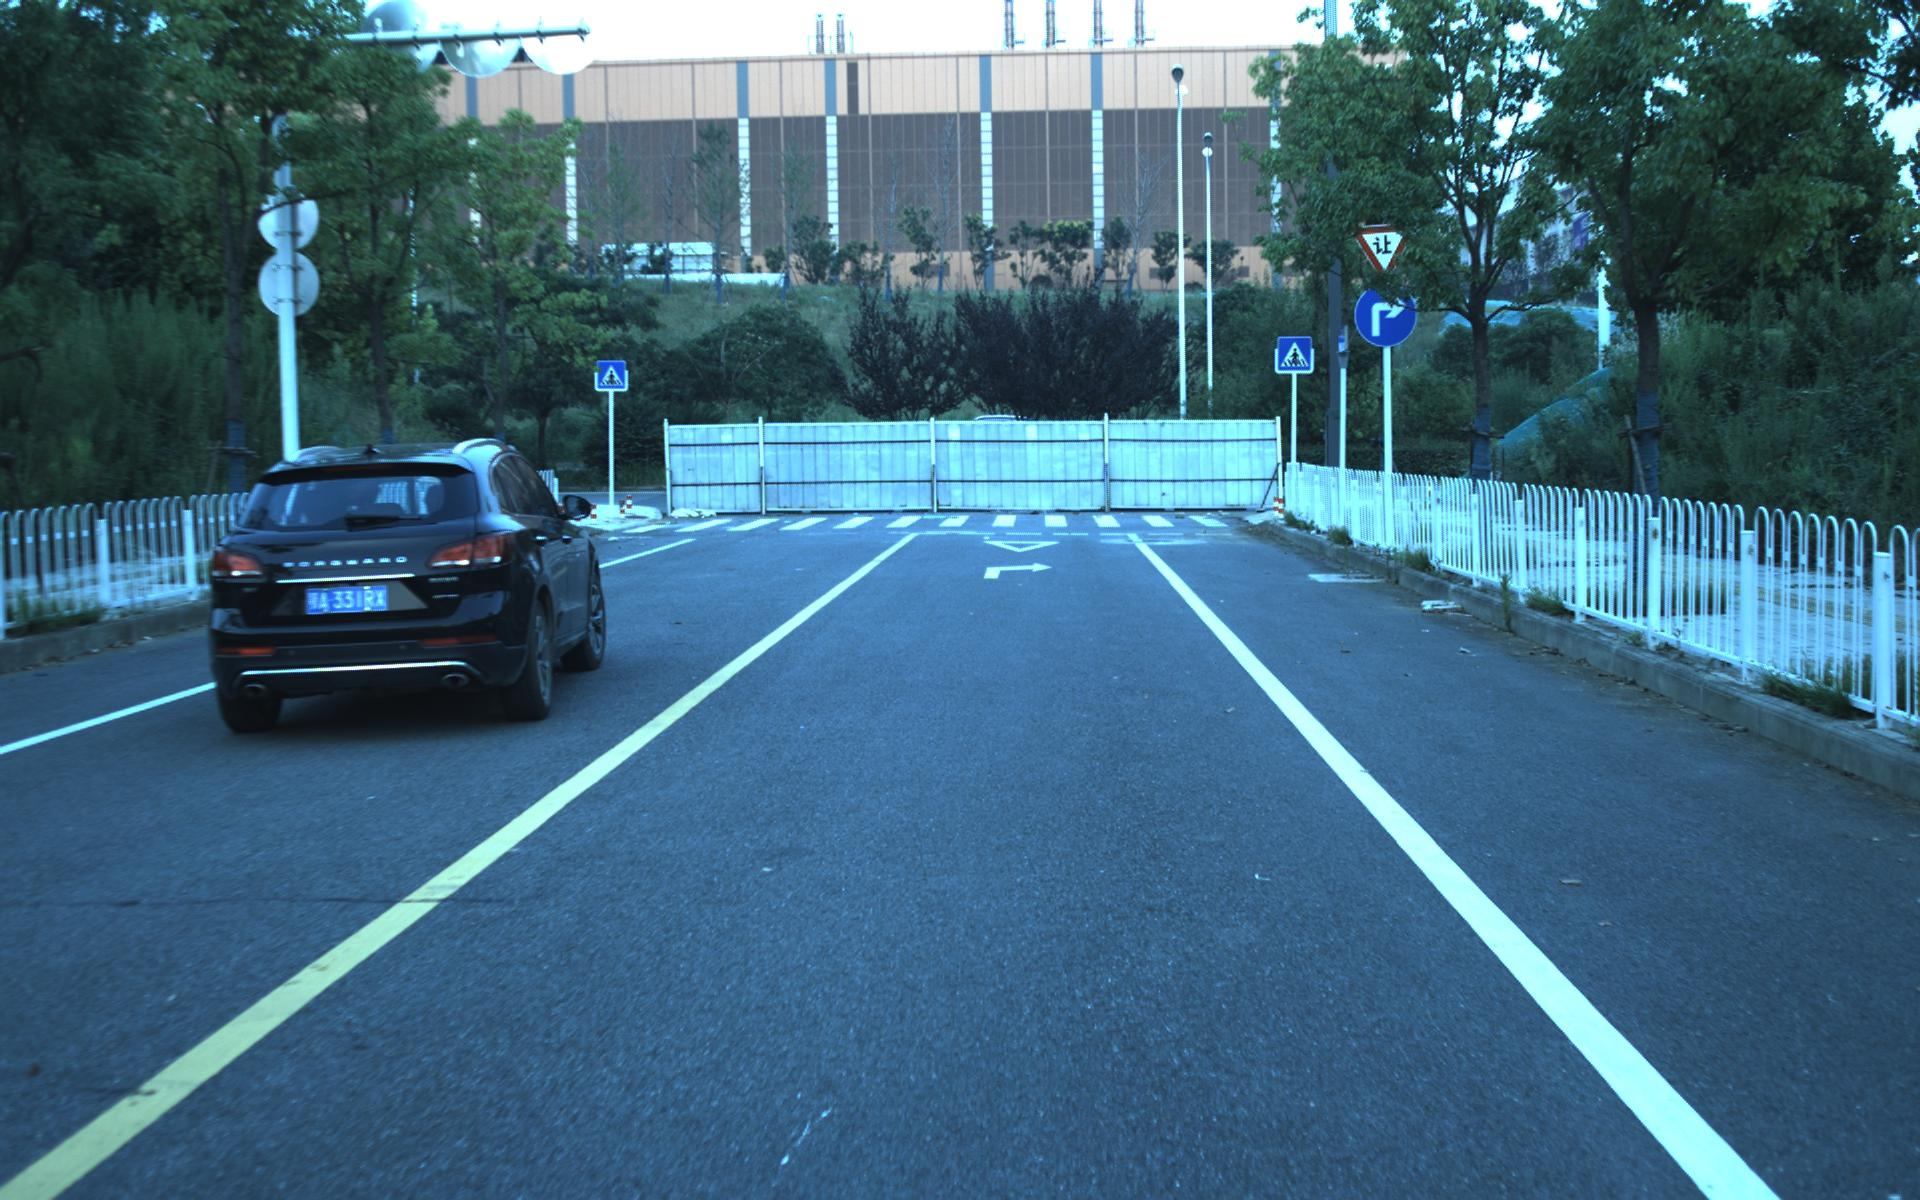Car: (187, 430, 617, 740)
